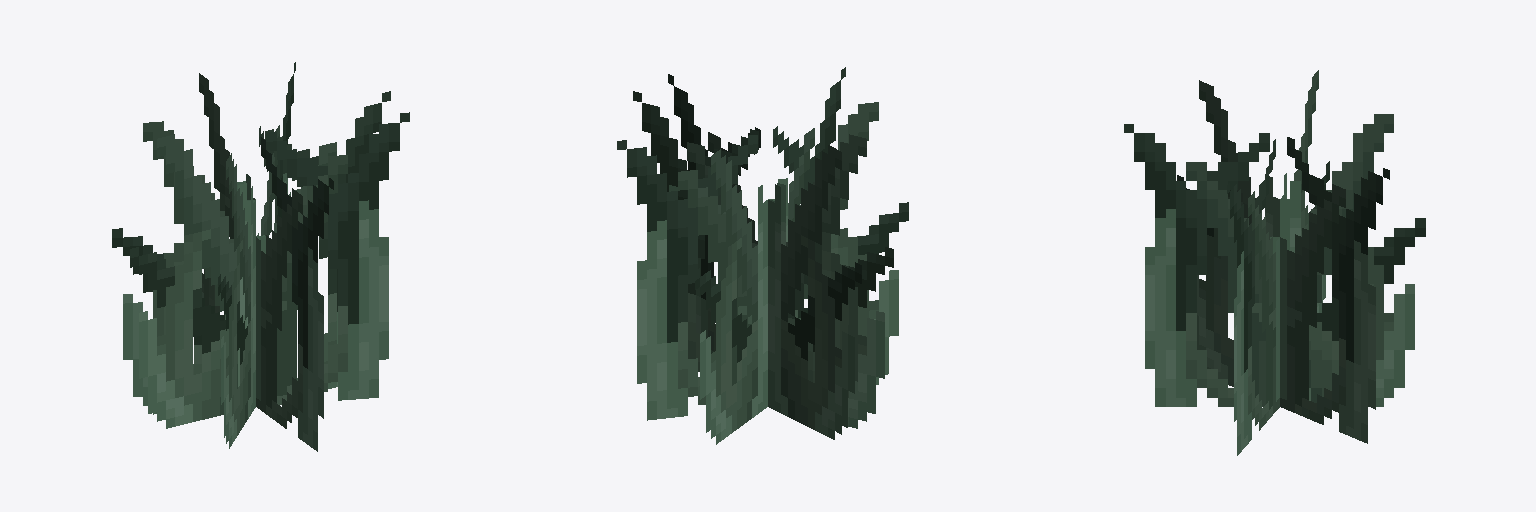
3 renders of one model, left to right at view 1: azimuth 30°, elevation 25°; view 2: azimuth 150°, elevation 25°; view 3: azimuth 270°, elevation 25°, orthographic.
Visible parts, largest first — view 1: cube; view 2: cube; view 3: cube.
Part boxes in pixels (x1,y1,x2,y2): cube: (112,62,409,451); cube: (617,67,908,444); cube: (1124,70,1425,455).
Bounding box in the file's own units: 1 × 1 × 1.
1 materials, 1 textured.